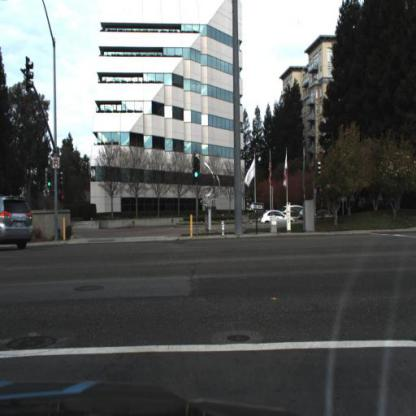car: (282, 205, 311, 228), (259, 213, 294, 230)
trafficLight-Green: (194, 141, 210, 190), (44, 170, 58, 202), (194, 153, 201, 181), (47, 174, 55, 193)
